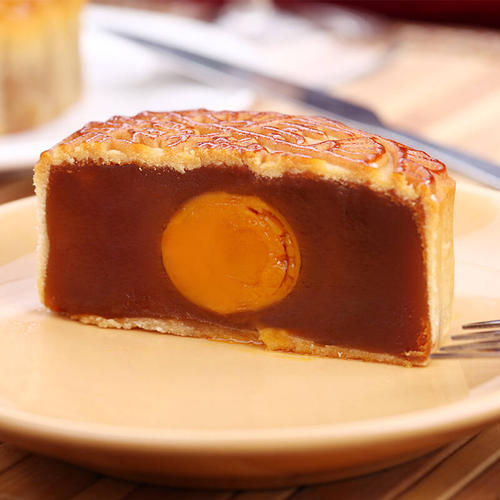MoonCake: (31, 107, 455, 369)
